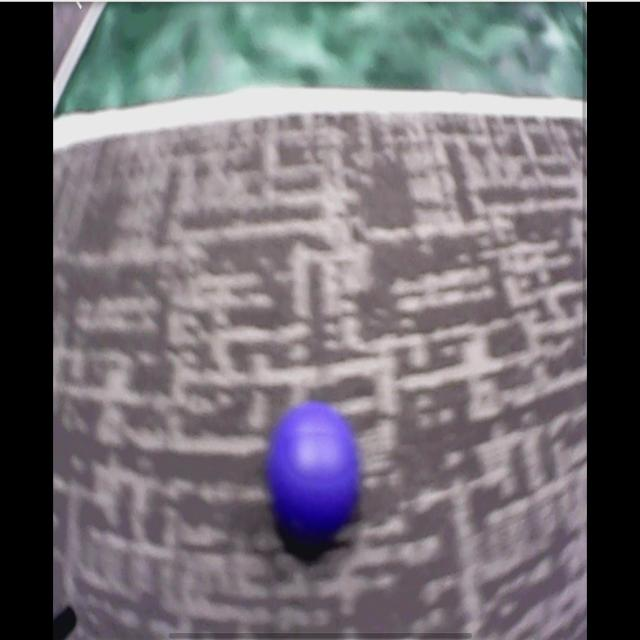ball: (270, 408, 356, 538)
